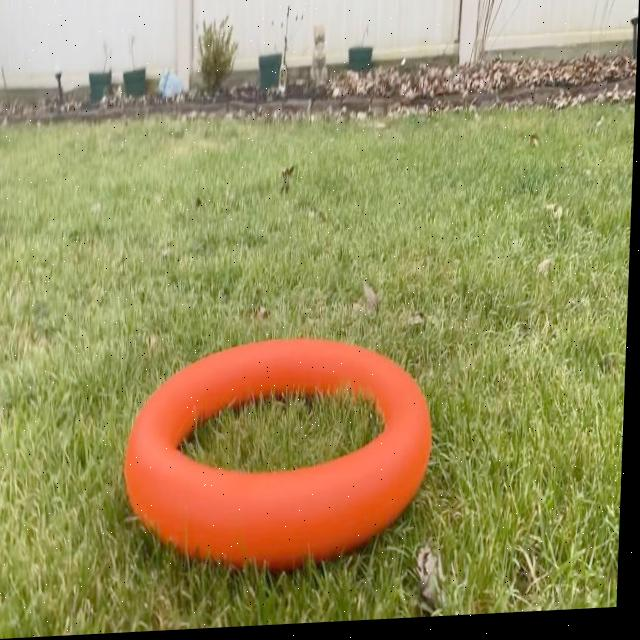note: (121, 333, 440, 585)
